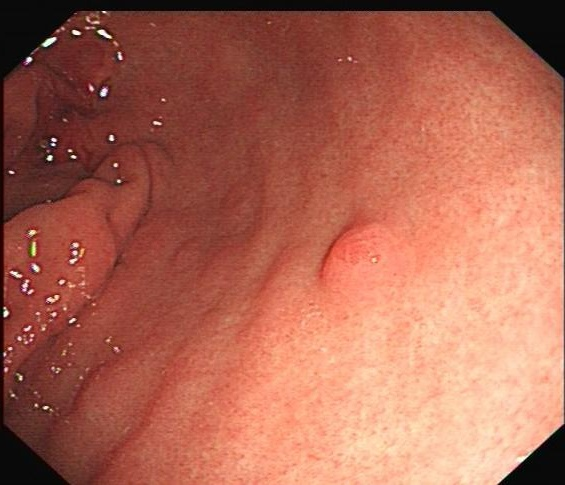Polyp: (315, 215, 403, 293)
